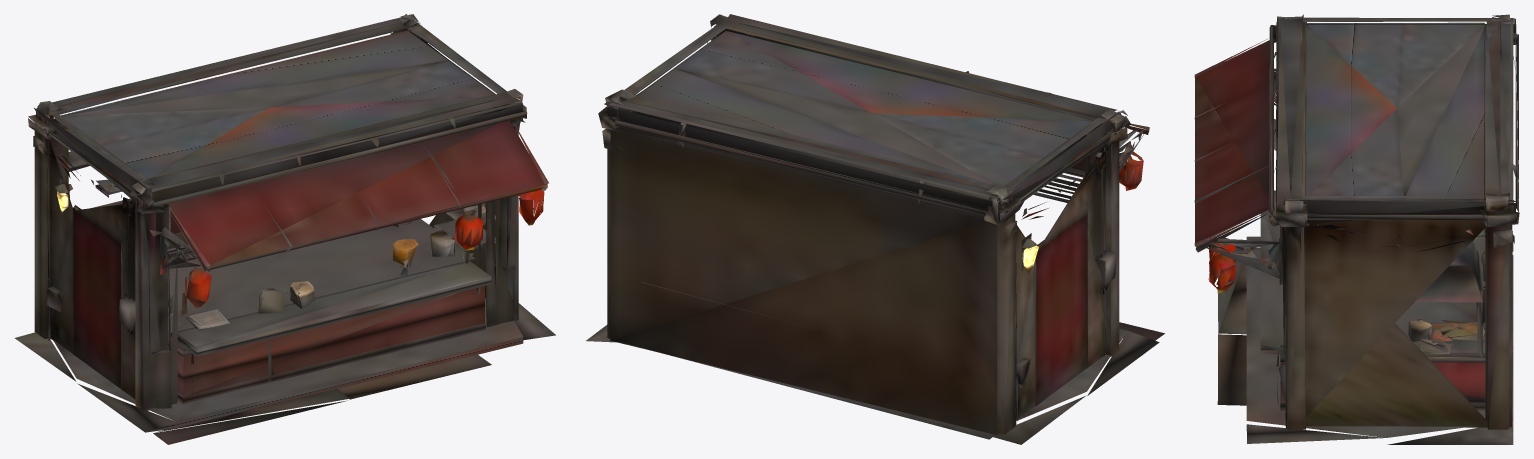
Rendered from stall-far.glb.
3 views of the same model, side by side, from view 1: azimuth 30°, elevation 25°; view 2: azimuth 150°, elevation 25°; view 3: azimuth 270°, elevation 25° (orthographic). The views are drawn at different scales.
Parts seen in each view (by area): view 1: stall; view 2: stall; view 3: stall.
Part boxes in pixels (x1,y1,x2,y2): stall: (14, 14, 555, 444); stall: (586, 14, 1164, 444); stall: (1194, 14, 1519, 444).
Size of the model in its own units: 5 by 2.7 by 3.35.
1 material, 1 textured.
